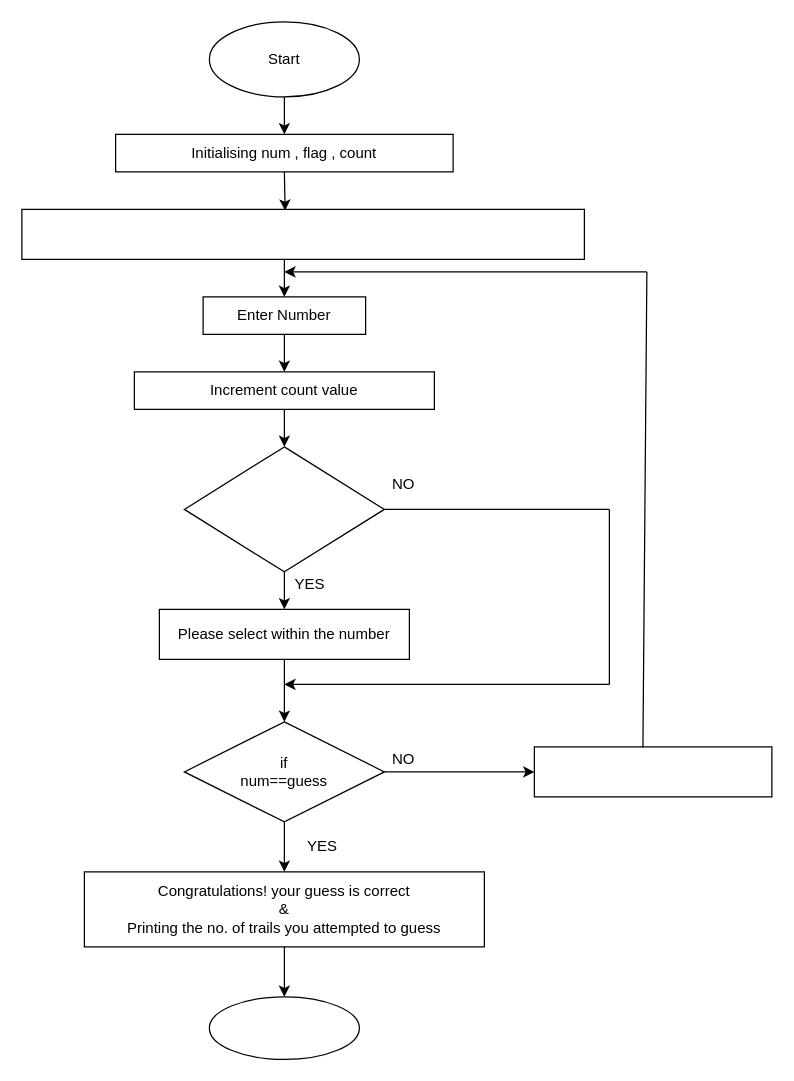
This 794x1081 diagram has some shape labels left out. The shapes that lost their labels are listed below. From the top down, each one's centre as x and y in pixels, then its label:
At pixel 302 233: "Printing the range of the number to be guessed".
At pixel 283 509: "if guess>10||guess<1".
At pixel 652 771: "sorry! your guess is wrong".
At pixel 283 1027: "End".
